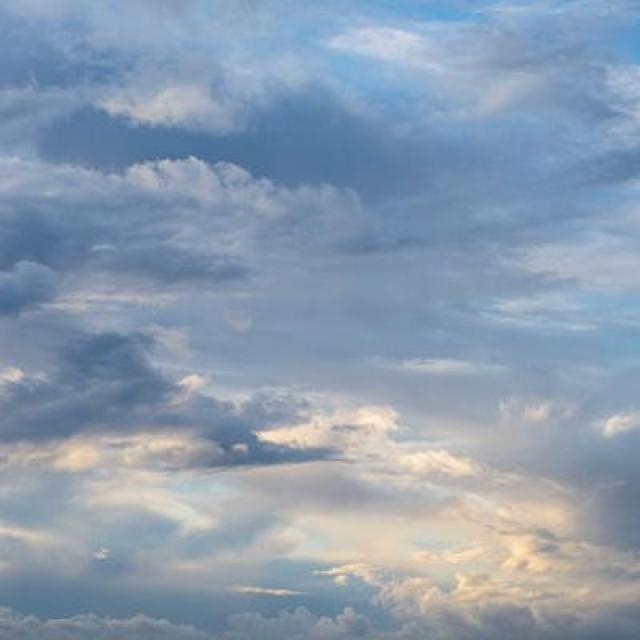As: (1, 59, 640, 597)
